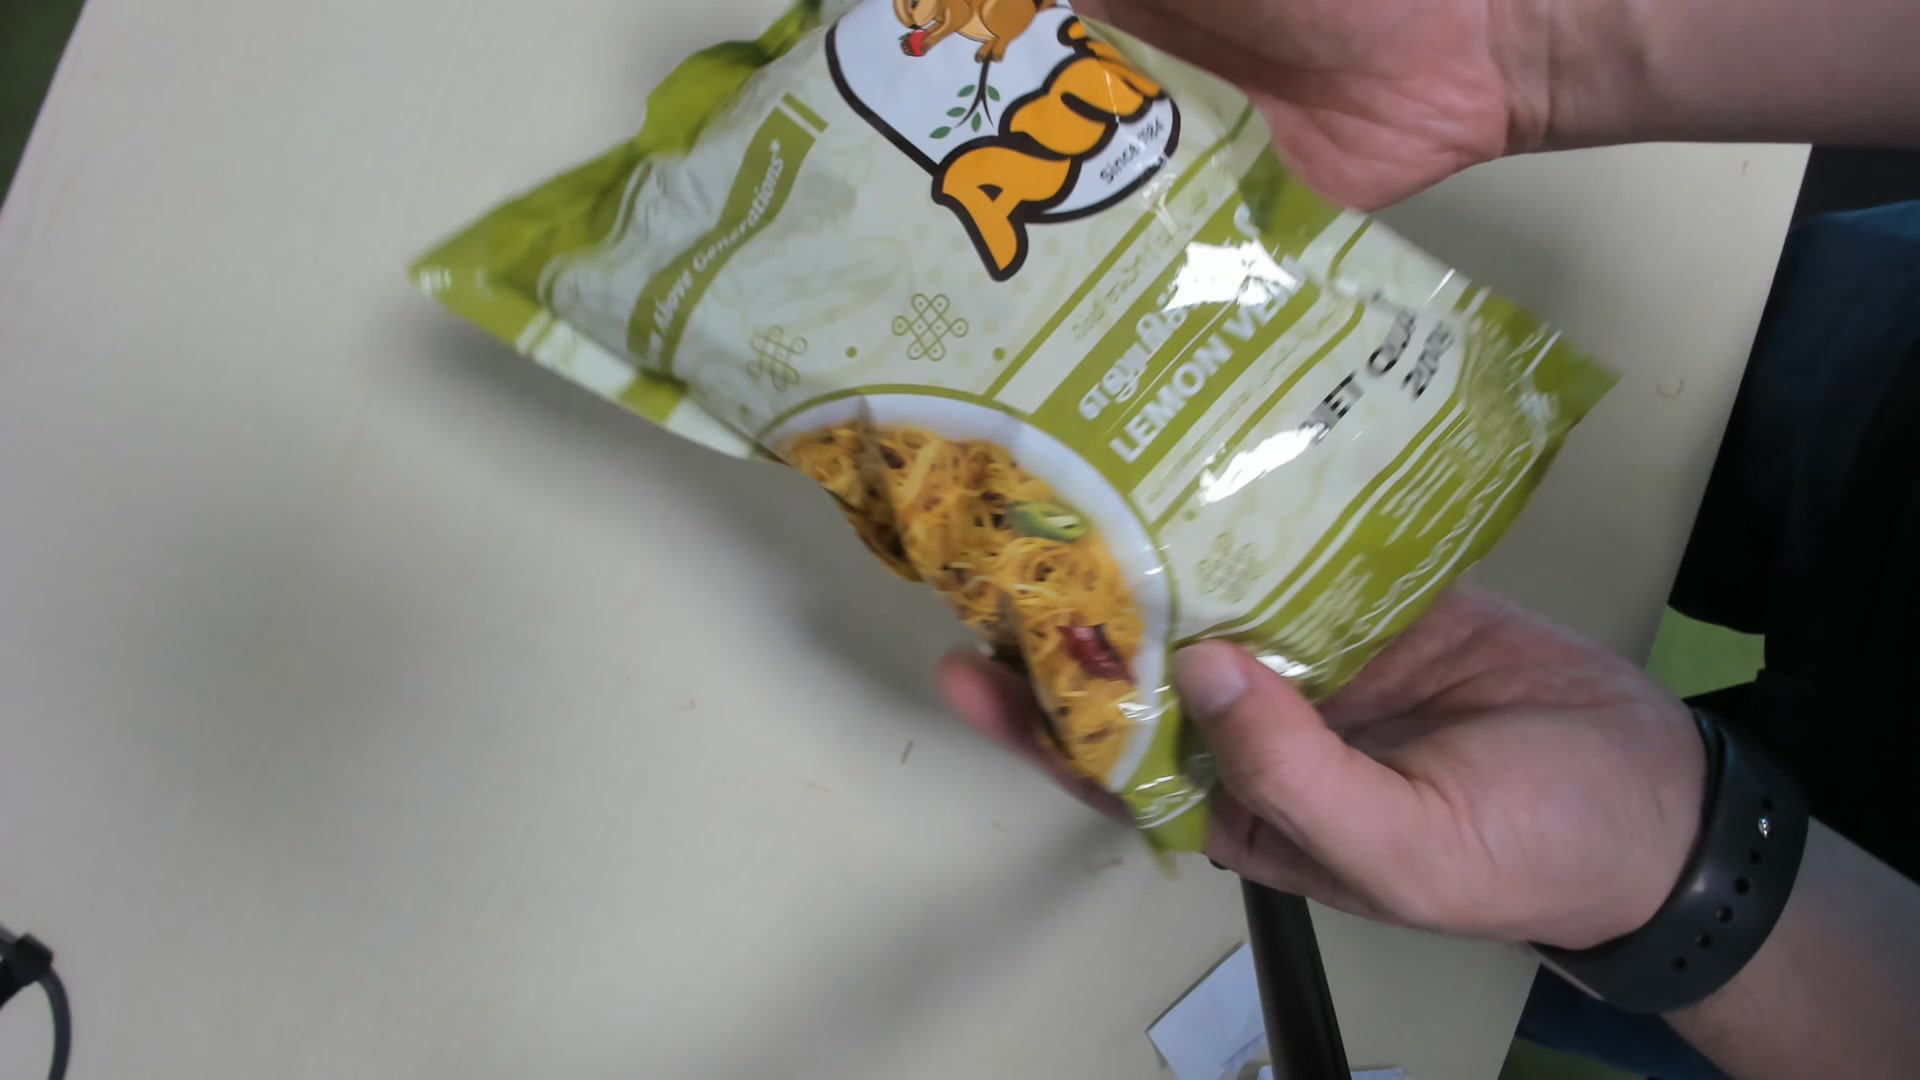BeeHoonVermicelli_200-299g_NonHalal_NonHealthy: (411, 12, 1619, 868)
